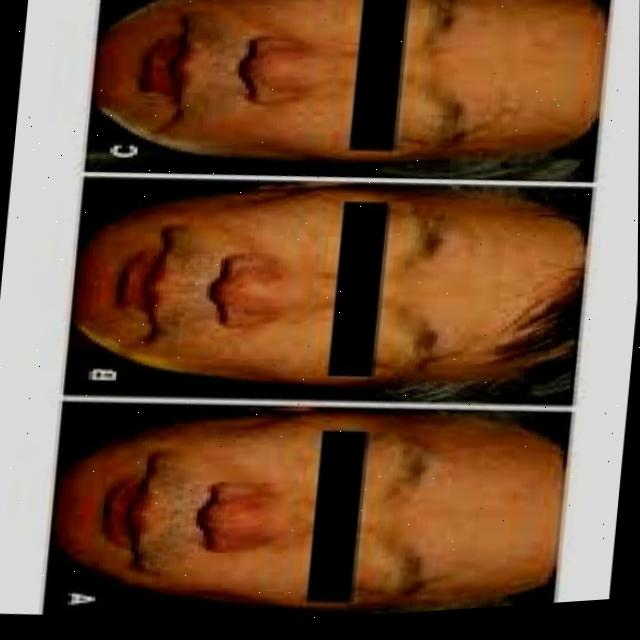Rosacea: (221, 228, 287, 333), (224, 478, 284, 555)
